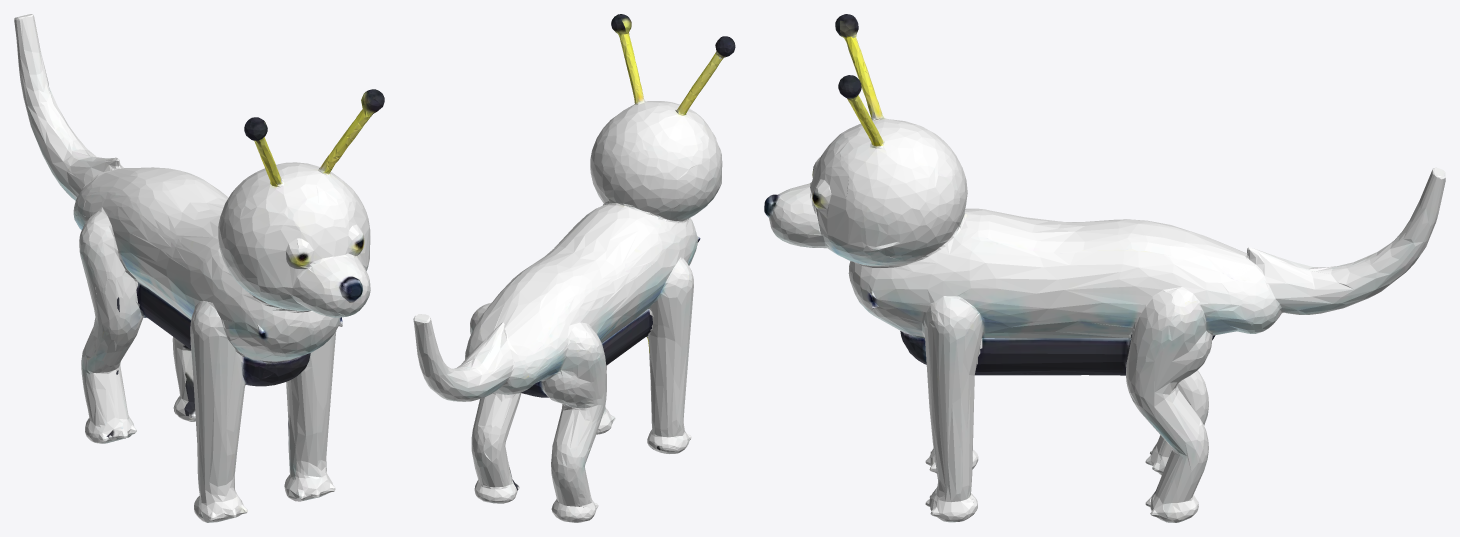
File: creature-072.lod.glb
3 renders of one model, left to right at view 1: azimuth 30°, elevation 25°; view 2: azimuth 150°, elevation 25°; view 3: azimuth 270°, elevation 25°, orthographic. The views are drawn at different scales.
Parts seen in each view (by area): view 1: tmpw9xgl09y.ply; view 2: tmpw9xgl09y.ply; view 3: tmpw9xgl09y.ply.
Part boxes in pixels (x1,y1,x2,y2): tmpw9xgl09y.ply: (14, 14, 384, 522); tmpw9xgl09y.ply: (413, 14, 735, 522); tmpw9xgl09y.ply: (764, 14, 1445, 522).
Bounding box in the file's own units: 0.5034 × 1.44 × 1.99.
Materials: 1 (1 with a texture image).
